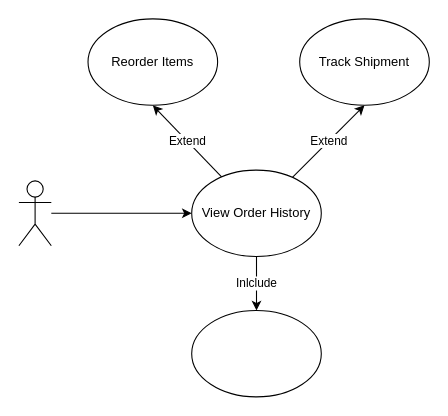
This 448x416 diagram has some shape labels left out. Each missing label, with the centre of its shape:
"User" goes at (x=34, y=213).
"View Order Details" goes at (x=256, y=353).
